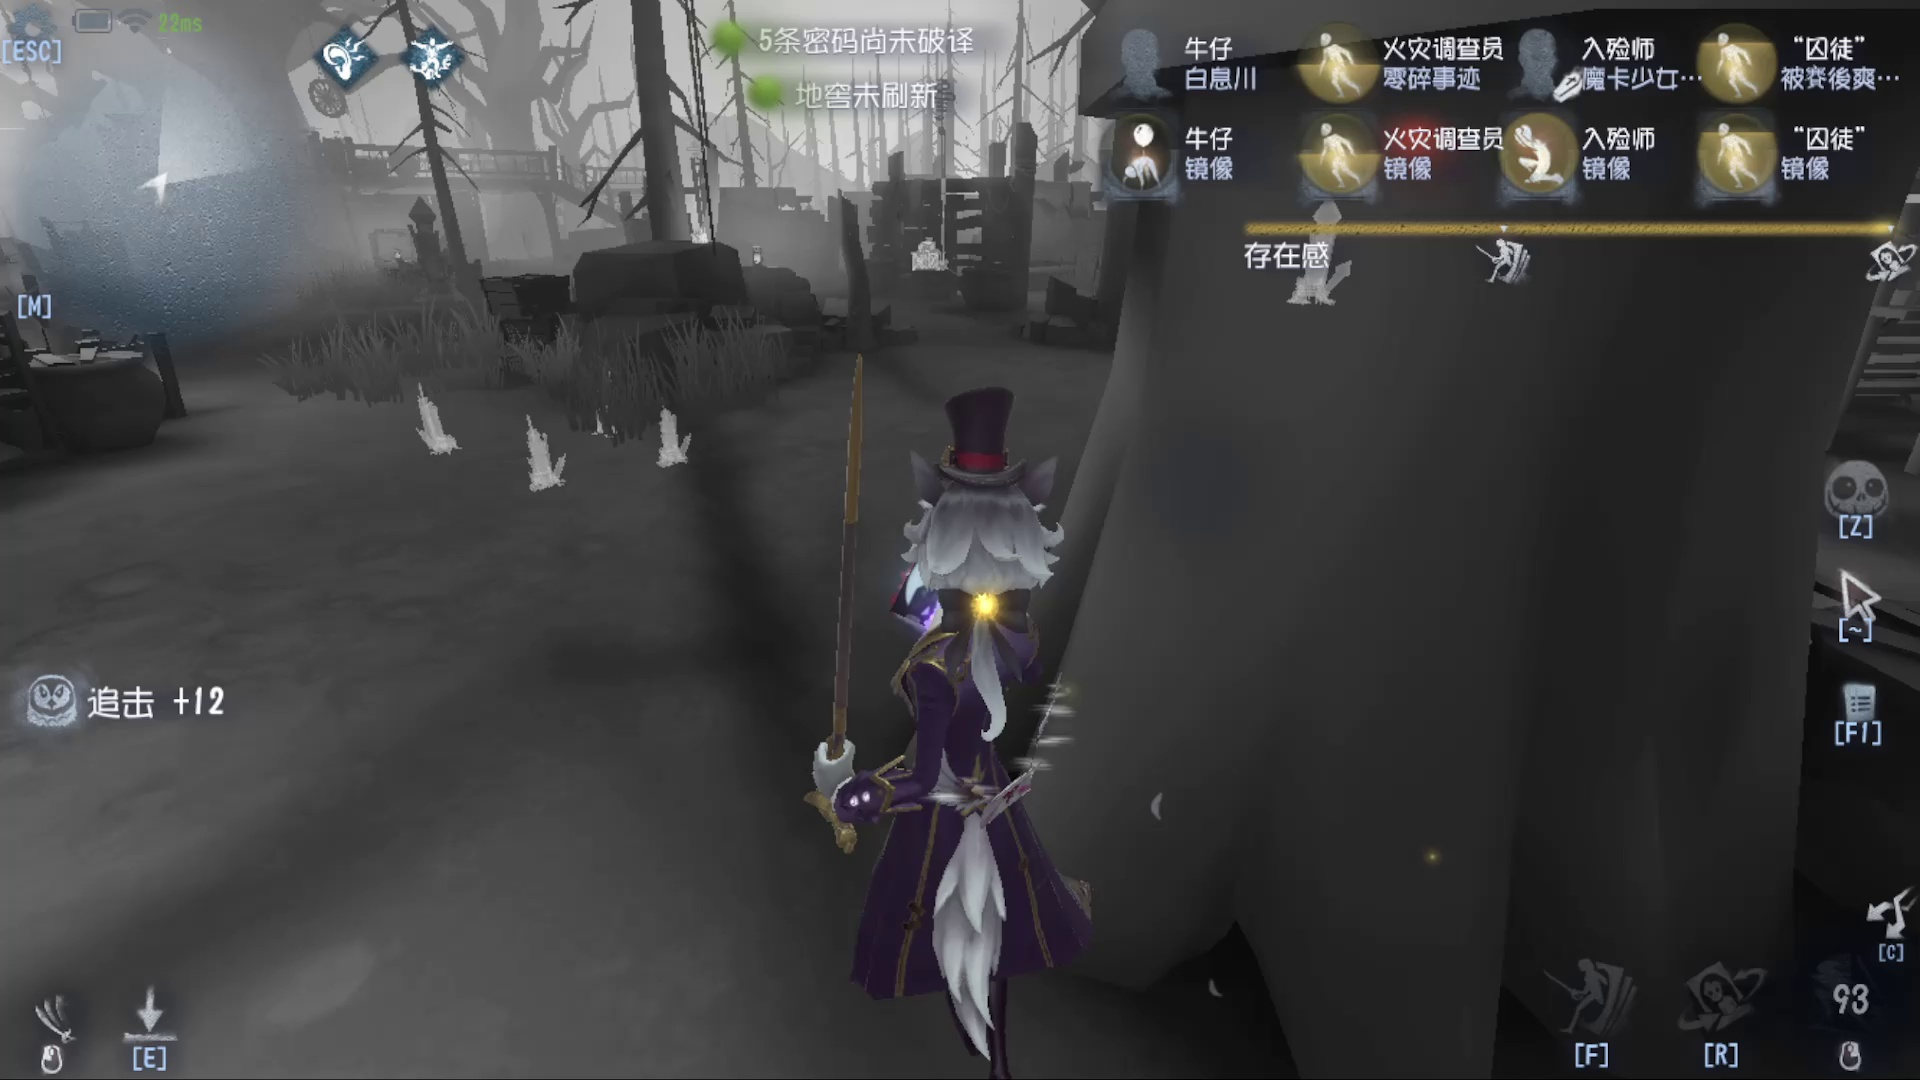密码机: (907, 131, 981, 307)
狂欢之椅: (1262, 193, 1354, 332), (488, 404, 591, 520), (404, 369, 476, 487), (636, 396, 719, 493)
